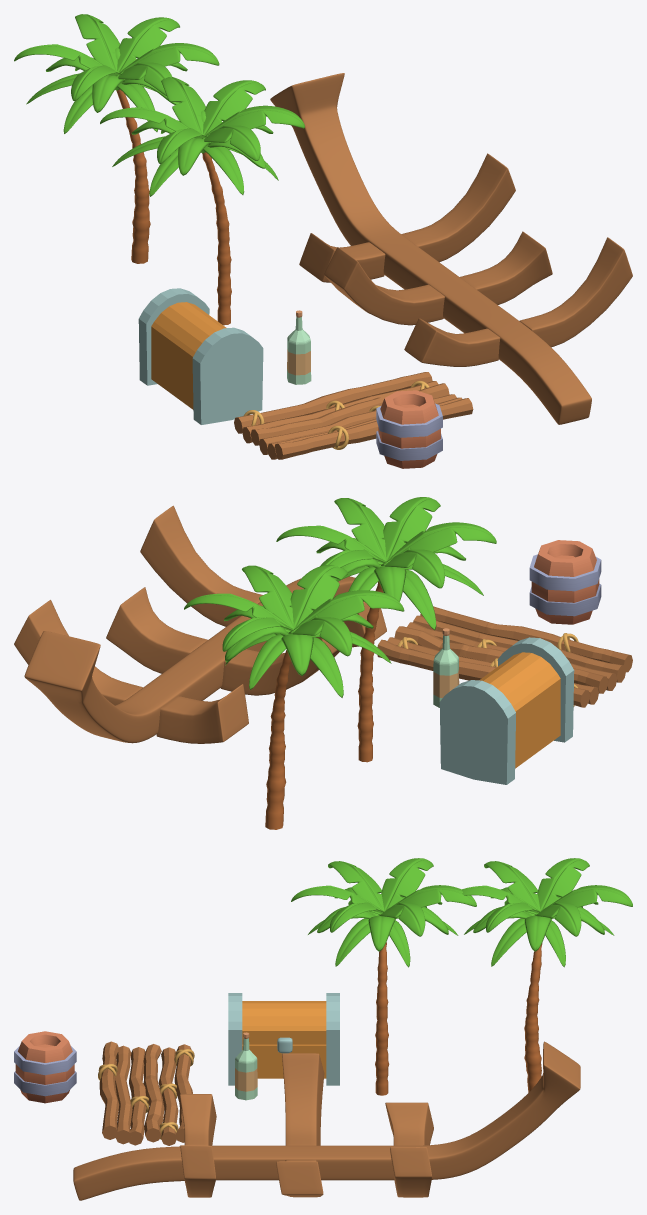
Rendered from IslandAssets01 (1).fbx.
3 renders of one model, top to bottom at view 1: azimuth 30°, elevation 25°; view 2: azimuth 150°, elevation 25°; view 3: azimuth 270°, elevation 25°, orthographic. The views are drawn at different scales.
Parts seen in each view (by area): view 1: BoatBroken, TreePalm, Chest, TreePalm2, WoodPlatform, barrel, Bottle; view 2: BoatBroken, TreePalm2, Chest, TreePalm, WoodPlatform, barrel, Bottle; view 3: BoatBroken, TreePalm, TreePalm2, WoodPlatform, Chest, barrel, Bottle.
Part boxes in pixels (x1=…): BoatBroken: x1=270, y1=73, x2=632, y2=424; TreePalm: x1=100, y1=77, x2=304, y2=325; Chest: x1=138, y1=288, x2=263, y2=424; TreePalm2: x1=14, y1=14, x2=219, y2=263; WoodPlatform: x1=234, y1=372, x2=473, y2=459; barrel: x1=376, y1=390, x2=442, y2=468; Bottle: x1=287, y1=310, x2=311, y2=384; BoatBroken: x1=14, y1=505, x2=386, y2=743; TreePalm2: x1=184, y1=565, x2=404, y2=829; Chest: x1=439, y1=637, x2=574, y2=784; TreePalm: x1=276, y1=497, x2=496, y2=762; WoodPlatform: x1=377, y1=606, x2=632, y2=707; barrel: x1=529, y1=540, x2=601, y2=624; Bottle: x1=433, y1=628, x2=459, y2=707; BoatBroken: x1=73, y1=1041, x2=580, y2=1200; TreePalm: x1=291, y1=858, x2=476, y2=1095; TreePalm2: x1=447, y1=858, x2=632, y2=1092; WoodPlatform: x1=98, y1=1041, x2=194, y2=1145; Chest: x1=228, y1=993, x2=339, y2=1085; barrel: x1=14, y1=1031, x2=76, y2=1103; Bottle: x1=235, y1=1032, x2=257, y2=1100.
Size of the model in its own units: 918 by 517 by 1321.
10 materials, 1 textured.
